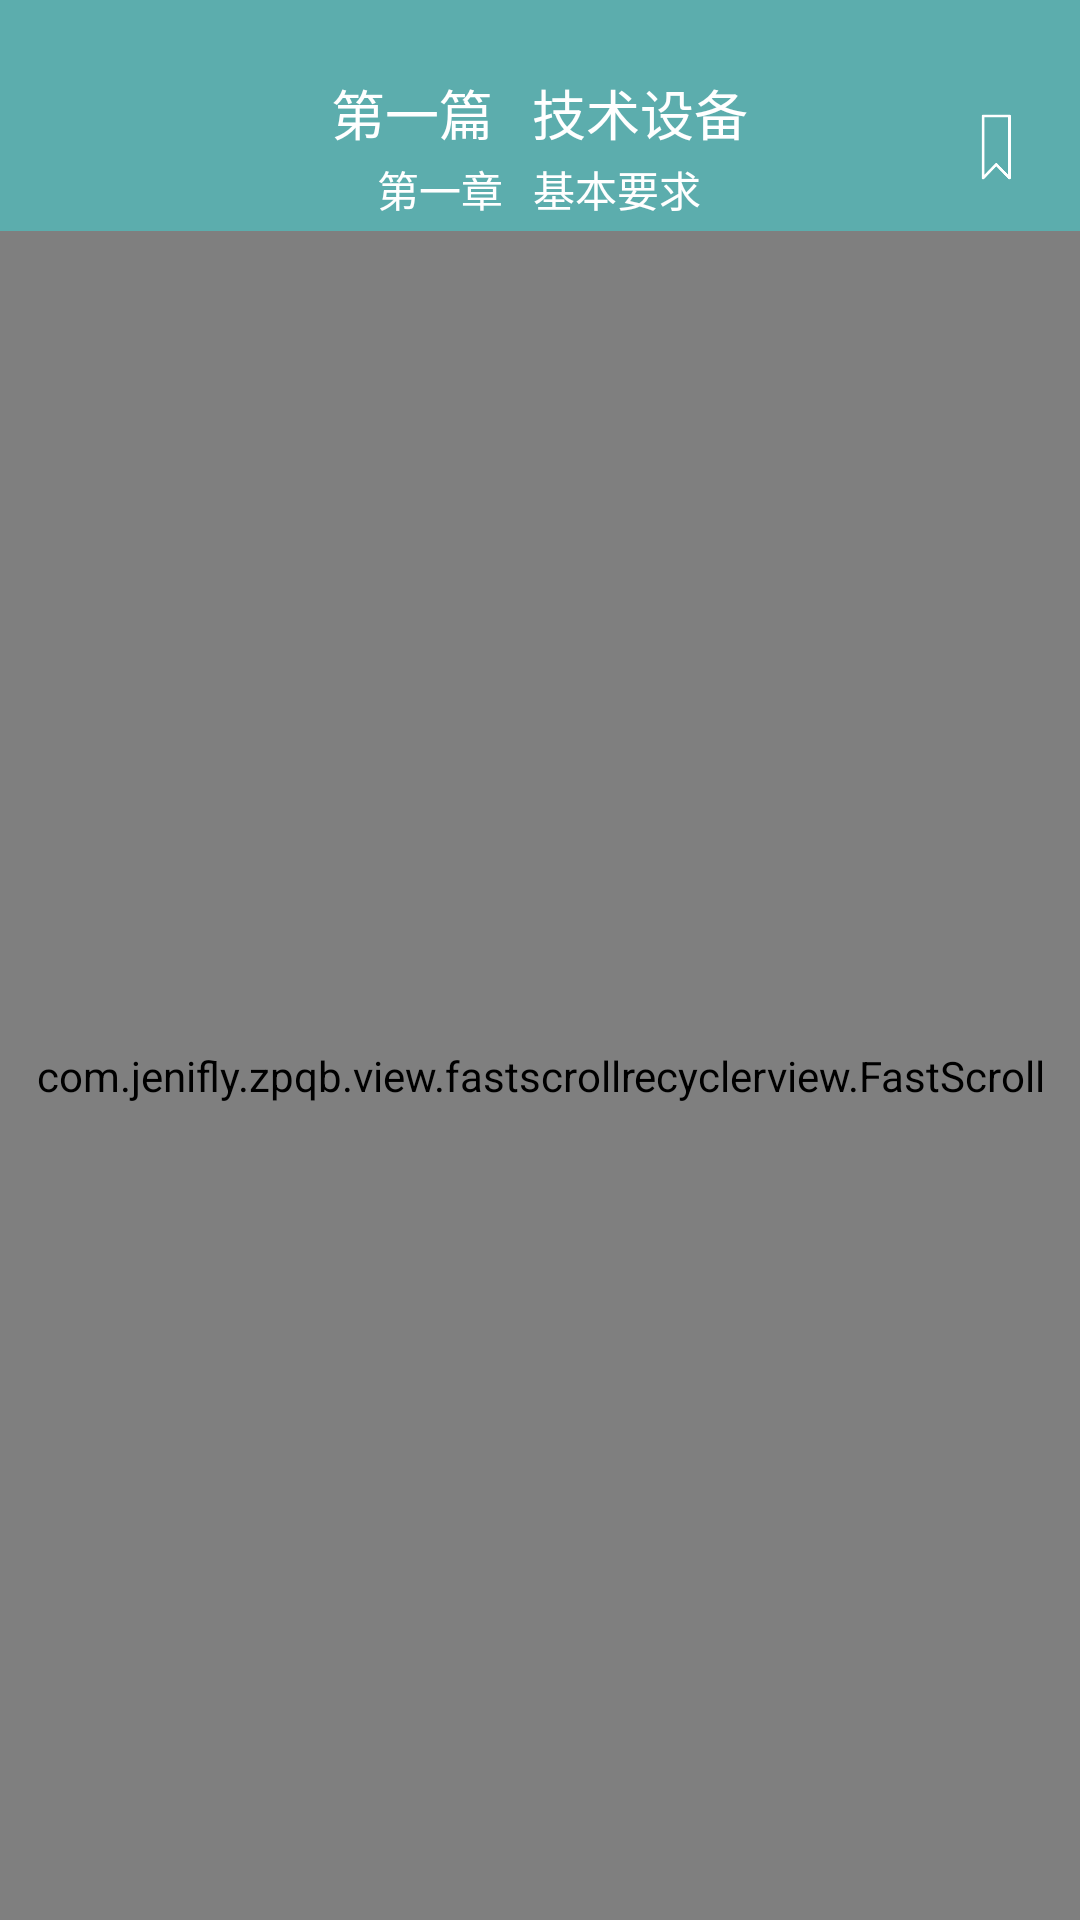

Icon bounding boxes for this 1080 x 1920 phone screenshot, format (x1=x1, y1=y1, x2=x2, y2=y2):
bookmarks: (x1=982, y1=114, x2=1011, y2=180)
